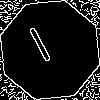I: (25, 25, 59, 72)
